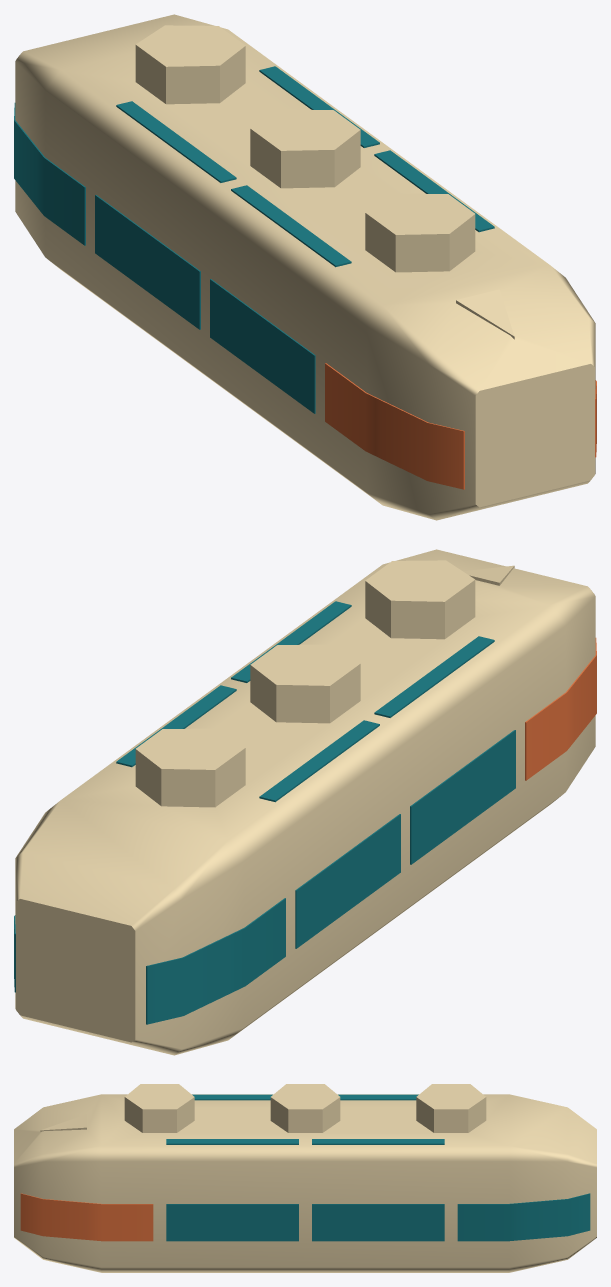
The model's file is pontoon-lod-2.glb.
3 renders of one model, top to bottom at view 1: azimuth 30°, elevation 25°; view 2: azimuth 150°, elevation 25°; view 3: azimuth 270°, elevation 25°, orthographic. The views are drawn at different scales.
Visible parts, largest first — view 1: pontoon_lod_2; view 2: pontoon_lod_2; view 3: pontoon_lod_2.
Part boxes in pixels (left/top/right/bottom): pontoon_lod_2: left=14, top=14, right=596, bottom=520; pontoon_lod_2: left=14, top=549, right=596, bottom=1055; pontoon_lod_2: left=14, top=1084, right=596, bottom=1272.
Size of the model in its own units: 1.01 by 1.14 by 4.
